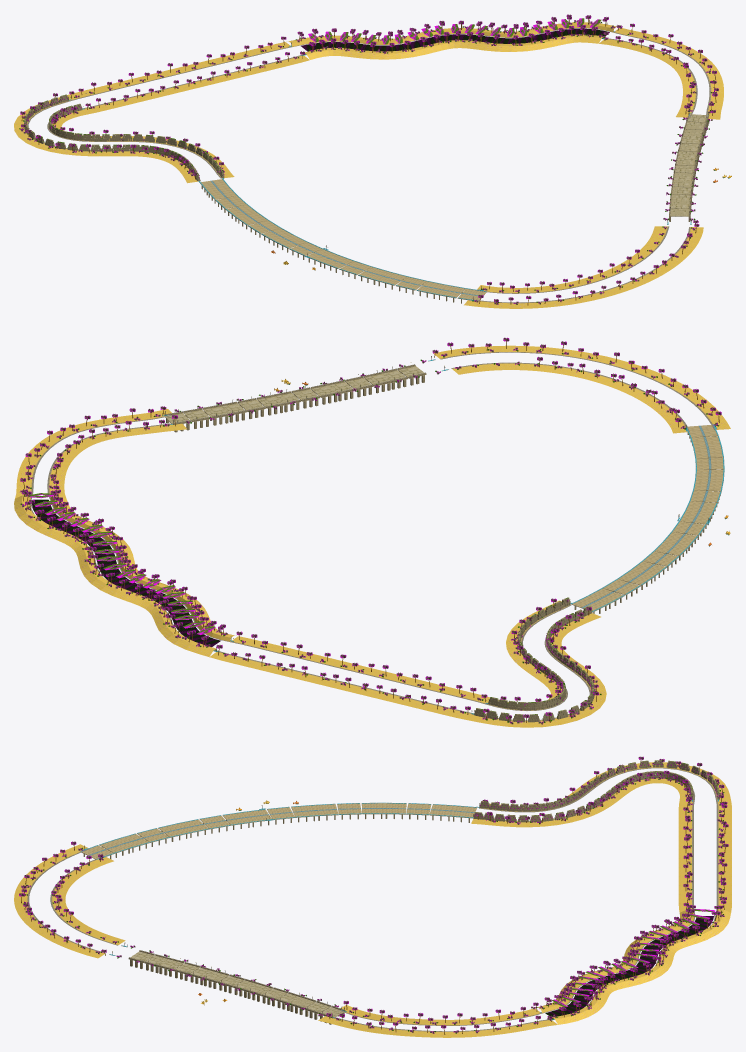
The model's file is painted-before.glb.
3 views of the same model, one above another, from view 1: azimuth 30°, elevation 25°; view 2: azimuth 150°, elevation 25°; view 3: azimuth 270°, elevation 25° (orthographic). The views are drawn at different scales.
Visible parts, largest first — view 1: DI_STATIC_DI_MAT_jungle, DI_STATIC_DI_MAT_concrete, DI_STATIC_DI_MAT_jungle-card, DI_STATIC_DI_MAT_metal; view 2: DI_STATIC_DI_MAT_jungle, DI_STATIC_DI_MAT_concrete, DI_STATIC_DI_MAT_jungle-card, DI_STATIC_DI_MAT_metal; view 3: DI_STATIC_DI_MAT_jungle, DI_STATIC_DI_MAT_concrete, DI_STATIC_DI_MAT_jungle-card, DI_STATIC_DI_MAT_metal.
Part boxes in pixels (bbox=[...]): DI_STATIC_DI_MAT_jungle: bbox=[14, 18, 723, 308]; DI_STATIC_DI_MAT_concrete: bbox=[24, 28, 711, 303]; DI_STATIC_DI_MAT_jungle-card: bbox=[20, 14, 718, 304]; DI_STATIC_DI_MAT_metal: bbox=[68, 31, 708, 300]; DI_STATIC_DI_MAT_jungle: bbox=[14, 341, 730, 727]; DI_STATIC_DI_MAT_concrete: bbox=[30, 352, 724, 722]; DI_STATIC_DI_MAT_jungle-card: bbox=[20, 337, 721, 724]; DI_STATIC_DI_MAT_metal: bbox=[162, 357, 716, 714]; DI_STATIC_DI_MAT_jungle: bbox=[14, 760, 731, 1037]; DI_STATIC_DI_MAT_concrete: bbox=[27, 760, 719, 1031]; DI_STATIC_DI_MAT_jungle-card: bbox=[19, 756, 728, 1033]; DI_STATIC_DI_MAT_metal: bbox=[84, 796, 718, 1020].
Size of the model in its own units: 782 by 39.99 by 809.
6 materials, 6 textured.
